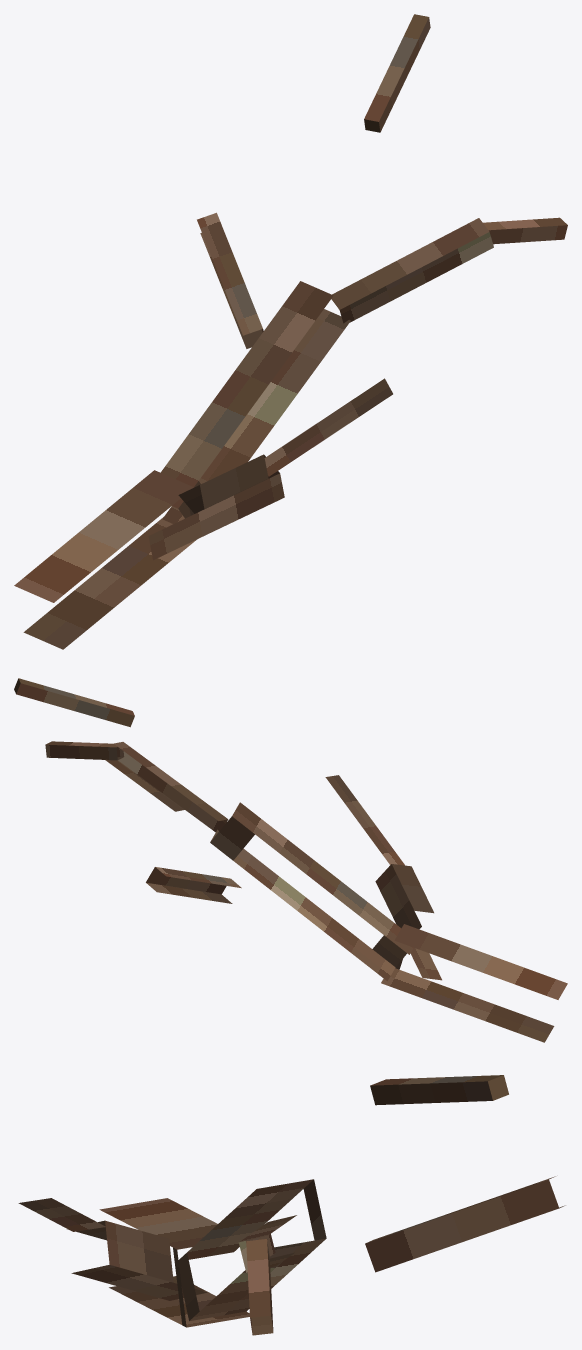
File: pine_twig_branch_up_5.obj
The picture shows the model from 3 angles, top to bottom: view 1: azimuth 30°, elevation 25°; view 2: azimuth 150°, elevation 25°; view 3: azimuth 270°, elevation 25°; orthographic projection. The views are drawn at different scales.
Parts seen in each view (by area): view 1: cube; view 2: cube; view 3: cube.
Boxes of the visible parts, <box> form: cube: <box>14,14,567,649</box>; cube: <box>14,678,567,1042</box>; cube: <box>18,1075,565,1335</box>.
Size of the model in its own units: 2.05 by 1.35 by 1.27.
